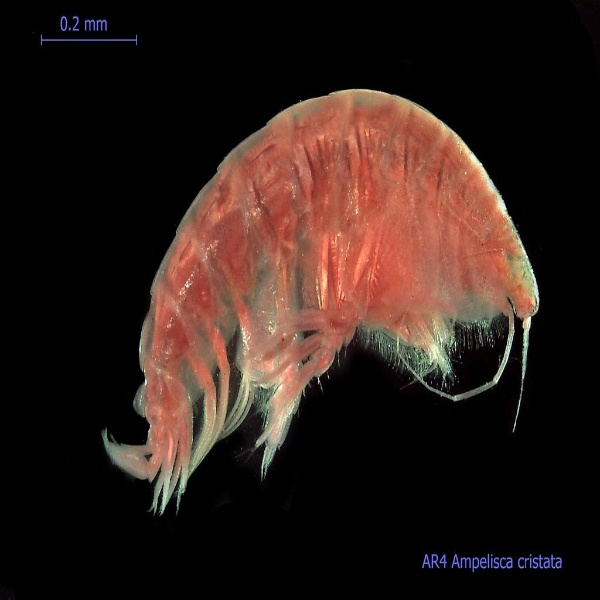Jellyfish: (152, 65, 559, 475)
